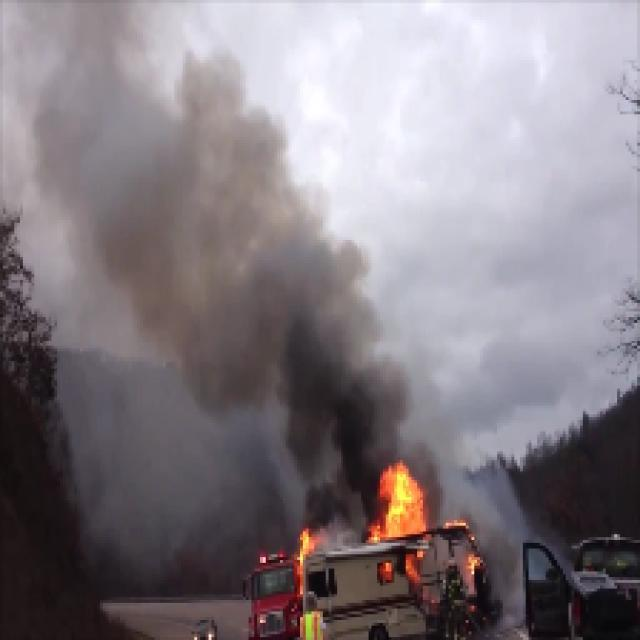Fire: (370, 464, 431, 542)
Smoke: (11, 0, 240, 420), (255, 172, 357, 467)
